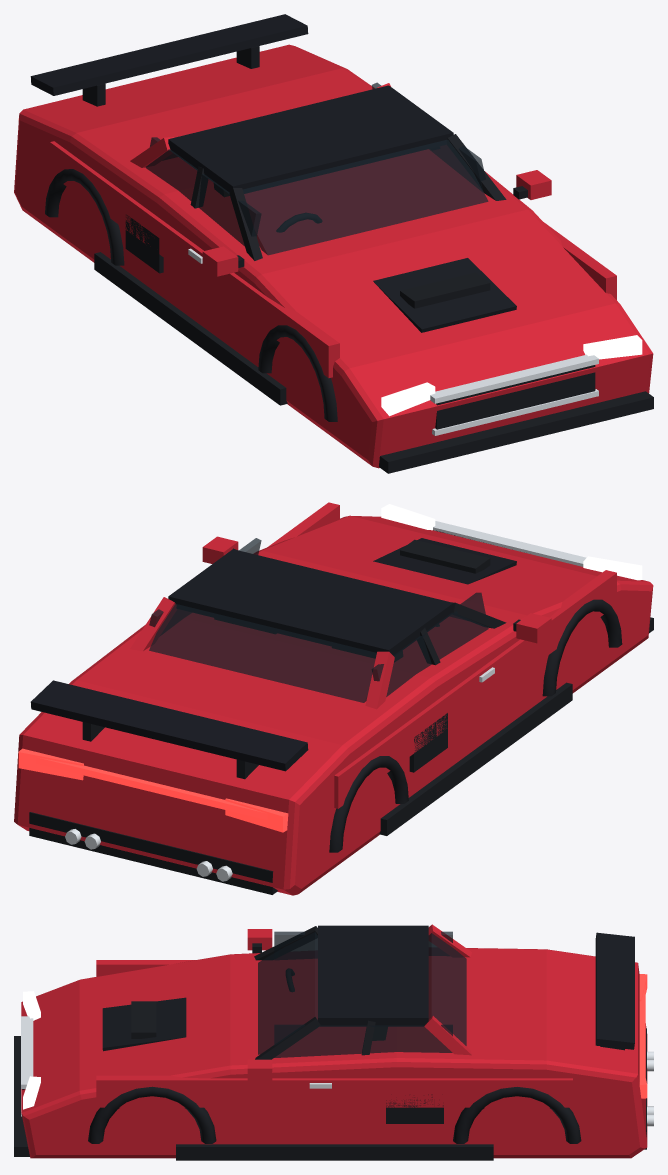
Rendered from car_sports.glb.
3 views of the same model, one above another, from view 1: azimuth 30°, elevation 25°; view 2: azimuth 150°, elevation 25°; view 3: azimuth 270°, elevation 25° (orthographic). The views are drawn at different scales.
Visible parts, largest first — view 1: car_sports; view 2: car_sports; view 3: car_sports.
Boxes of the visible parts, <box> form: car_sports: <box>14,14,653,473</box>; car_sports: <box>14,502,653,895</box>; car_sports: <box>14,924,653,1160</box>.
Bounding box in the file's own units: 2.39 × 1.05 × 4.63.
